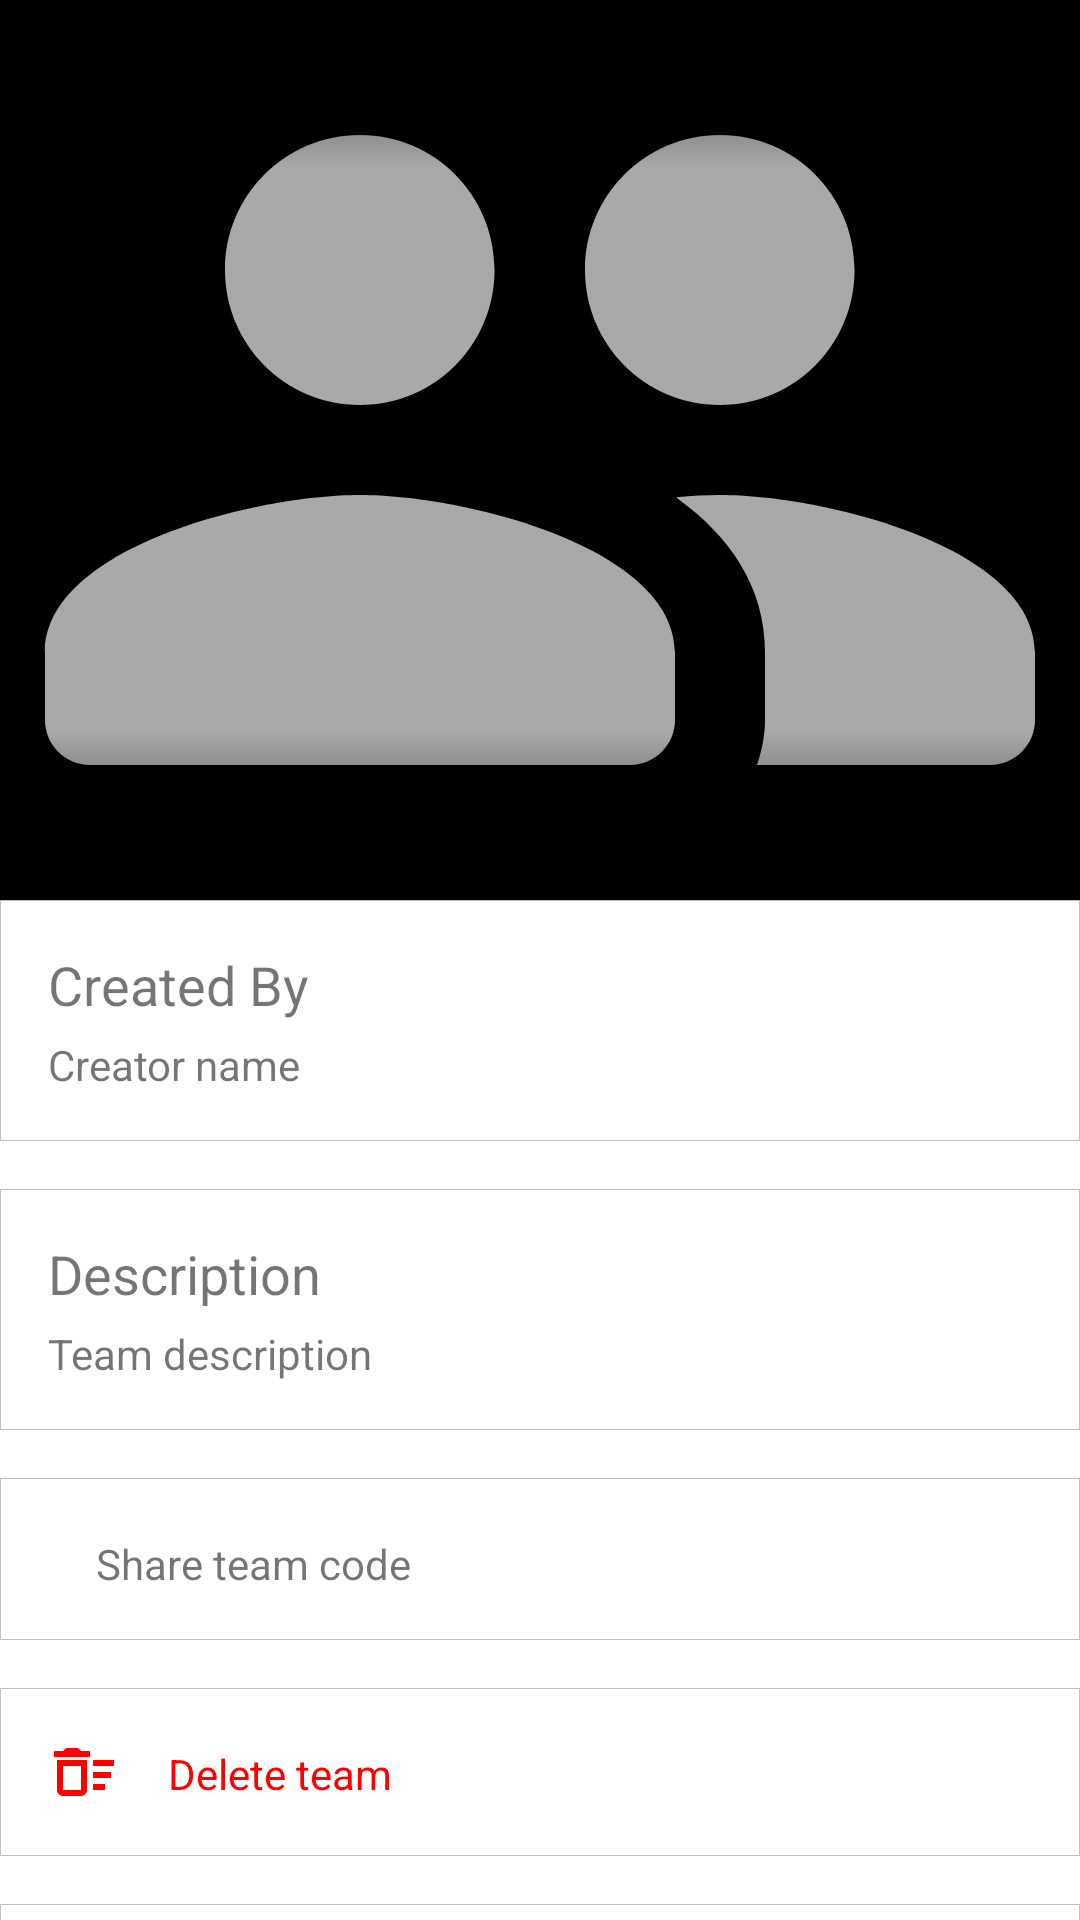

Screen size 1080w x 1920h. Icon name, then its box in pixels as [x1,y1,x2,y2]:
delete account: [54,1748,114,1796]
